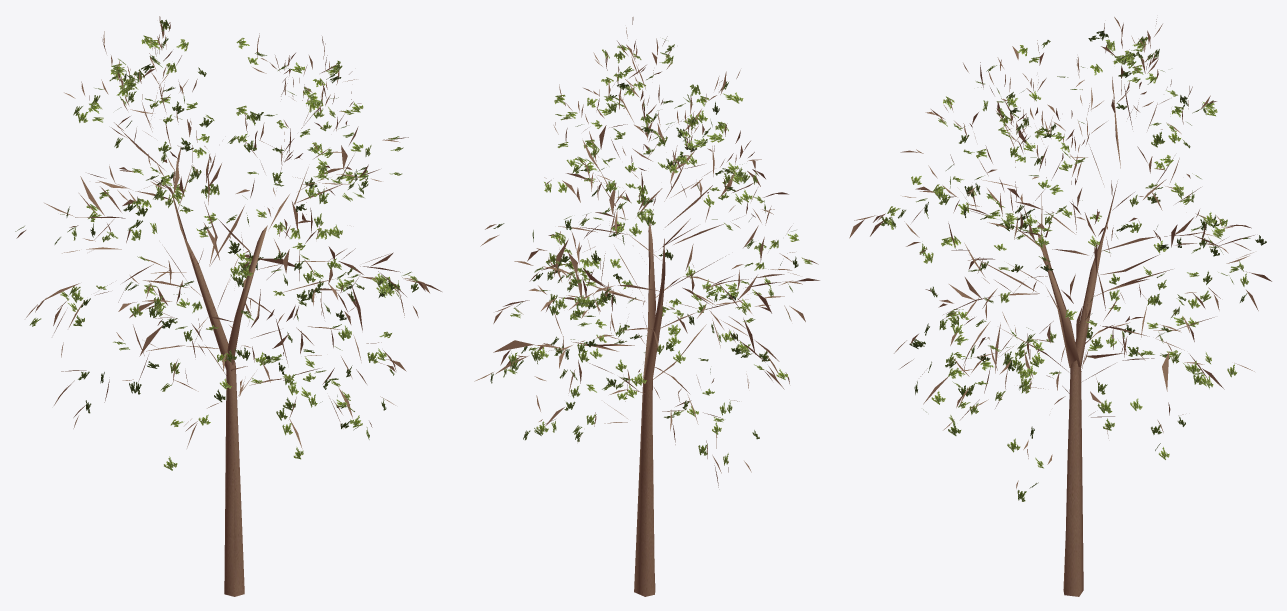
File: roble1.glb
The picture shows the model from 3 angles, left to right: view 1: azimuth 30°, elevation 25°; view 2: azimuth 150°, elevation 25°; view 3: azimuth 270°, elevation 25°; orthographic projection. The views are drawn at different scales.
Parts seen in each view (by area): view 1: tronco, hojas; view 2: tronco, hojas; view 3: tronco, hojas.
Boxes of the visible parts, <box> form: tronco: <box>16,16,441,596</box>; hojas: <box>15,19,418,470</box>; tronco: <box>474,17,819,596</box>; hojas: <box>490,38,812,465</box>; tronco: <box>849,17,1271,596</box>; hojas: <box>881,31,1266,501</box>.
Size of the model in its own units: 10.27 by 16.52 by 11.37.
Materials: 2 (2 with a texture image).
